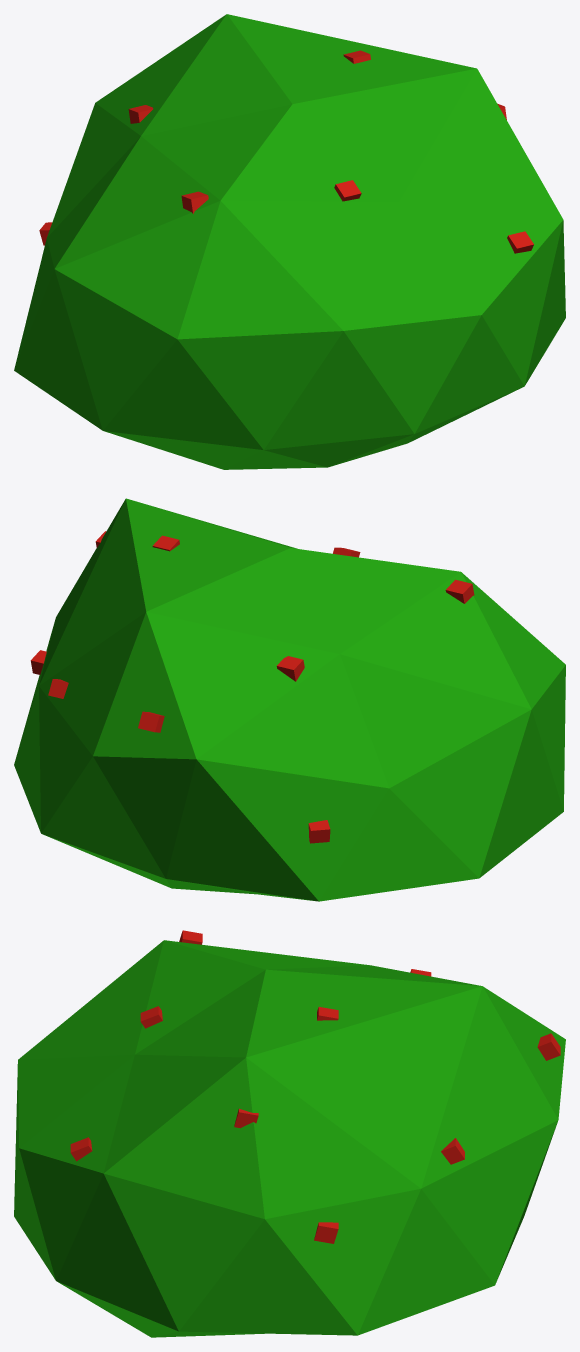
The model's file is Bush_1.fbx.
3 views of the same model, one above another, from view 1: azimuth 30°, elevation 25°; view 2: azimuth 150°, elevation 25°; view 3: azimuth 270°, elevation 25° (orthographic). The views are drawn at different scales.
Visible parts, largest first — view 1: Bush_mesh; view 2: Bush_mesh; view 3: Bush_mesh.
Part boxes in pixels (x1,y1,x2,y2): Bush_mesh: (14, 14, 565, 469); Bush_mesh: (14, 498, 565, 901); Bush_mesh: (14, 930, 565, 1337).
Bounding box in the file's own units: 268 × 175 × 261.
